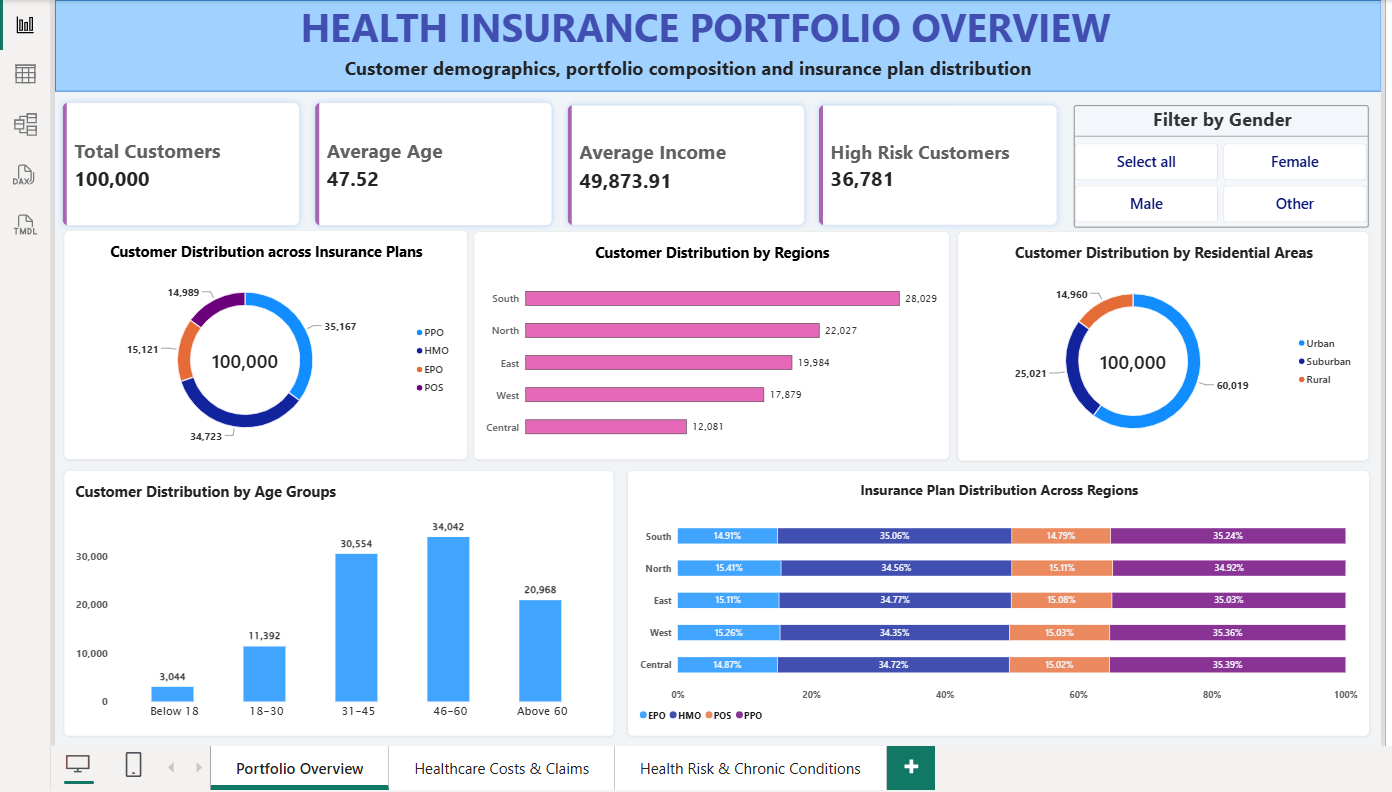

The page's visual inventory and layout, read from the dashboard file:
{"tool":"powerbi","page":{"name":"Portfolio Overview","canvas":[1920,1080],"ordinal":0},"visuals":[{"type":"shape","box":[0,0,1920.4,132.4],"z":0},{"type":"textbox","box":[0,0,1920.4,106],"z":1000},{"type":"textbox","box":[0,79.5,1920.4,53],"z":2000},{"type":"cardVisual","fields":{"Data":["medical_insurance.Total Customers"]},"box":[0,138.1,365.2,200.6],"z":3000},{"type":"cardVisual","fields":{"Data":["medical_insurance.Average Age"]},"box":[365.2,138.1,365.2,200.6],"z":4000},{"type":"cardVisual","fields":{"Data":["medical_insurance.Average Income"]},"box":[730.3,141.9,365.2,196.8],"z":5000},{"type":"cardVisual","fields":{"Data":["medical_insurance.High Risk Customers"]},"box":[1095.5,141.9,367,196.8],"z":6000},{"type":"donutChart","title":"Customer Distribution across Insurance Plans","fields":{"Category":["medical_insurance.plan_type"],"Y":["Count(medical_insurance.person_id)"]},"box":[13.2,333,584.6,333],"z":7000},{"type":"clusteredBarChart","title":"Customer Distribution by Regions","fields":{"Category":["medical_insurance.region"],"Y":["Count(medical_insurance.person_id)"]},"box":[605.4,334.9,688.7,331.1],"z":8000},{"type":"donutChart","title":"Customer Distribution by Residential Areas","fields":{"Category":["medical_insurance.urban_rural"],"Y":["Count(medical_insurance.person_id)"]},"box":[1307.4,334.9,596,333],"z":9000},{"type":"clusteredColumnChart","title":"Customer Distribution by Age Groups","fields":{"Category":["medical_insurance.Age Group"],"Y":["Count(medical_insurance.person_id)"]},"box":[13.2,681.1,796.5,386],"z":10000},{"type":"hundredPercentStackedBarChart","title":"Insurance Plan Distribution Across Regions","fields":{"Category":["medical_insurance.region"],"Series":["medical_insurance.plan_type"],"Y":["Count(medical_insurance.person_id)"]},"box":[828.7,681.1,1074.7,386],"z":11000},{"type":"advancedSlicerVisual","title":"   Filter by Gender","fields":{"Values":["medical_insurance.sex"]},"box":[1475.8,151.4,427.6,177.8],"z":12000}]}

Visuals, with their boxes on the page's 1920x1080 design canvas (x1, y1, x2, y2). These are canvas units, not pixel positions in the 1392x792 screenshot, which may show the page scaled, cropped or inside an application window:
shape: 0 0 1920 132
textbox: 0 0 1920 106
textbox: 0 80 1920 132
cardVisual - medical_insurance.Total Customers: 0 138 365 339
cardVisual - medical_insurance.Average Age: 365 138 730 339
cardVisual - medical_insurance.Average Income: 730 142 1096 339
cardVisual - medical_insurance.High Risk Customers: 1096 142 1462 339
"Customer Distribution across Insurance Plans" donutChart: 13 333 598 666
"Customer Distribution by Regions" clusteredBarChart: 605 335 1294 666
"Customer Distribution by Residential Areas" donutChart: 1307 335 1903 668
"Customer Distribution by Age Groups" clusteredColumnChart: 13 681 810 1067
"Insurance Plan Distribution Across Regions" hundredPercentStackedBarChart: 829 681 1903 1067
"   Filter by Gender" advancedSlicerVisual: 1476 151 1903 329
